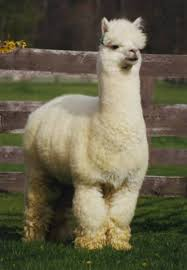alpaca: (22, 16, 148, 251)
